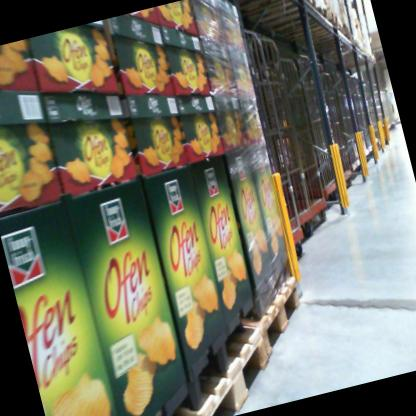pallet: (150, 318, 288, 416), (224, 267, 319, 370), (265, 2, 342, 43), (258, 0, 333, 40), (230, 0, 318, 29), (293, 22, 353, 53), (232, 0, 305, 17), (296, 22, 346, 46)
